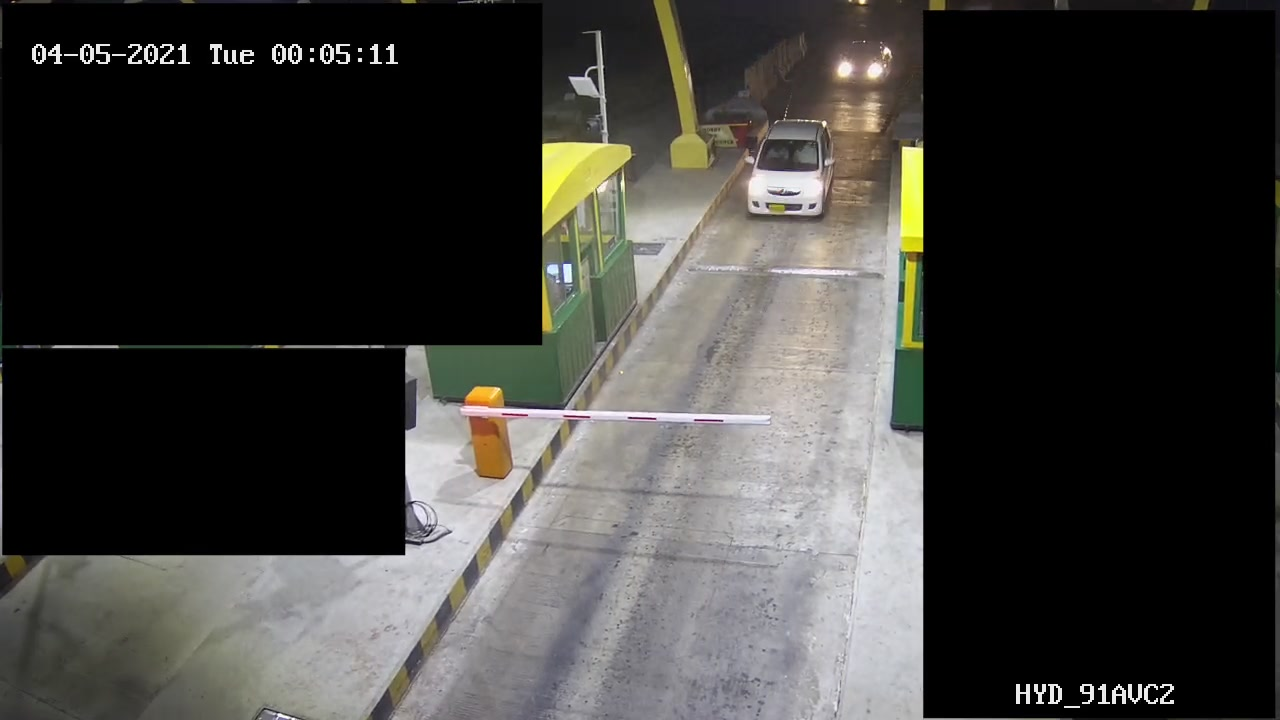F1: (747, 120, 836, 227)
